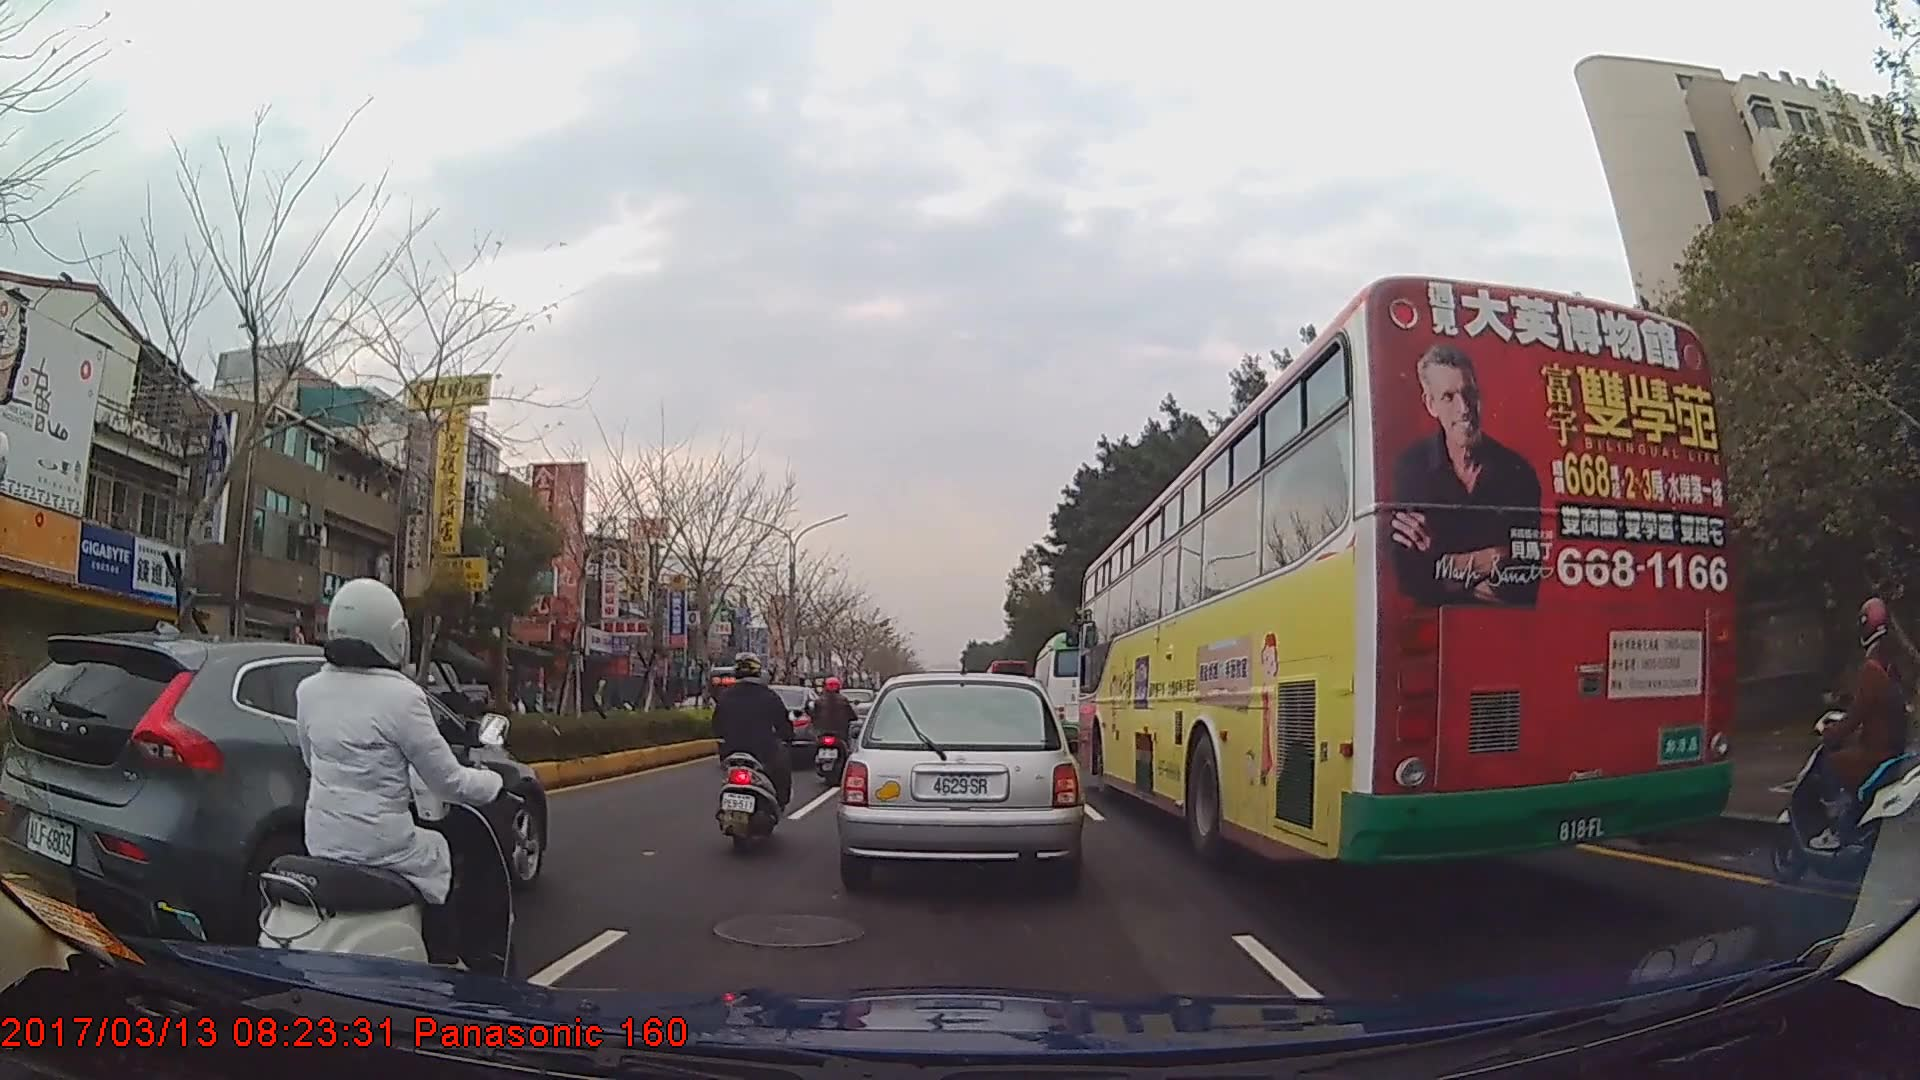rider: (244, 570, 520, 1007), (1765, 596, 1920, 884), (709, 651, 796, 852), (808, 677, 857, 787)
vehicle: (1078, 270, 1737, 874), (0, 630, 546, 951), (837, 671, 1082, 887), (348, 657, 494, 739), (1031, 631, 1116, 750), (720, 684, 829, 768)
